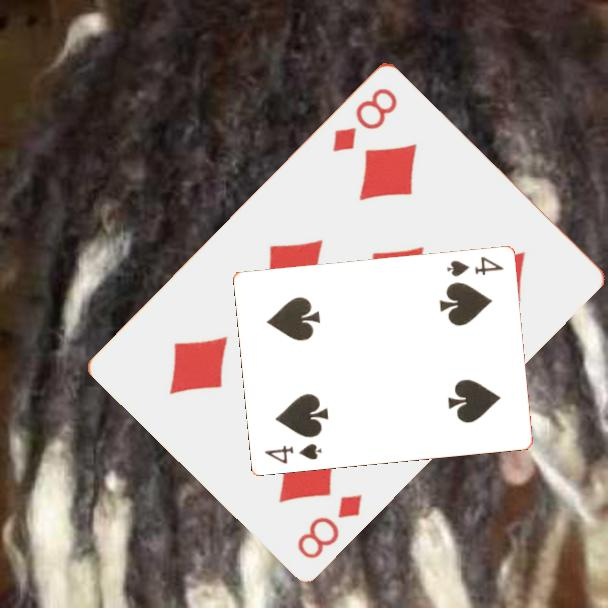d08: (293, 489, 365, 562), (328, 83, 400, 155)
s04: (261, 440, 325, 467), (443, 252, 506, 279)
